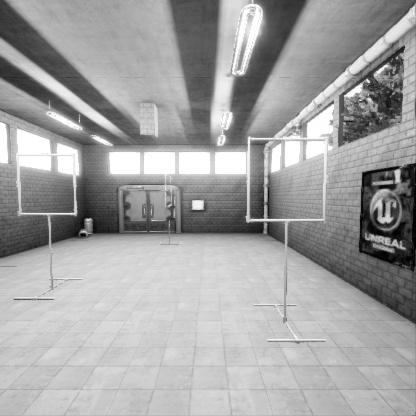gate: (250, 197, 336, 282), (23, 203, 85, 263), (165, 210, 171, 243)
